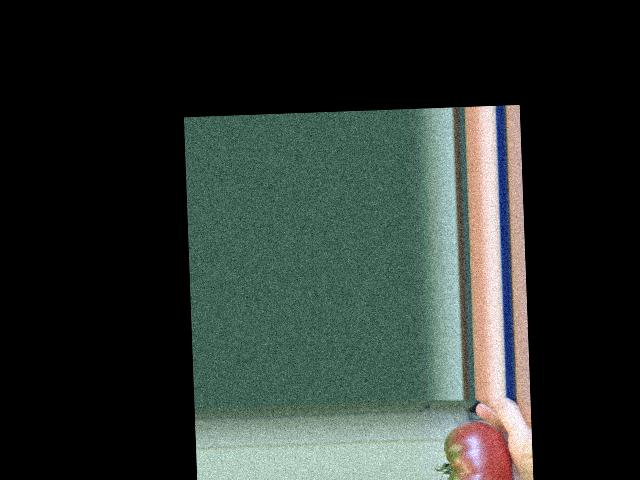tomato: (442, 420, 514, 480)
